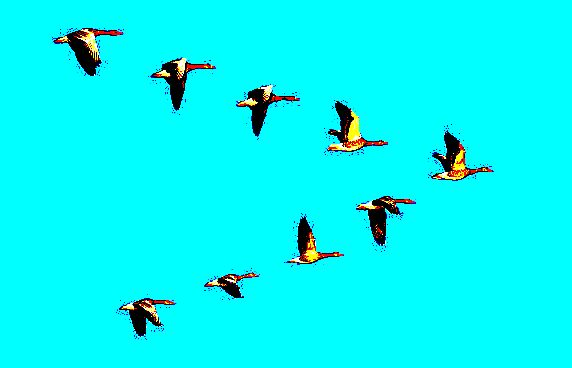Bird: (148, 54, 216, 113), (426, 126, 496, 183), (233, 83, 303, 138), (50, 23, 123, 74), (281, 213, 347, 269), (352, 191, 418, 246), (325, 100, 389, 154), (115, 295, 178, 340), (204, 269, 261, 301)
